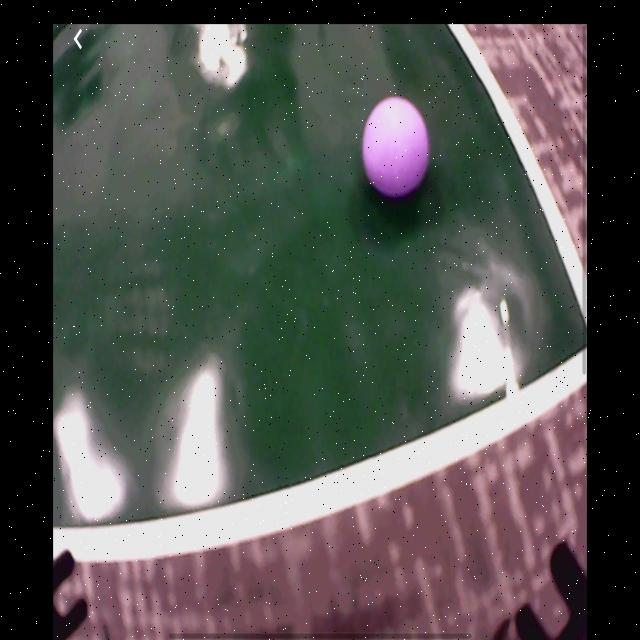ball: (362, 95, 429, 198)
